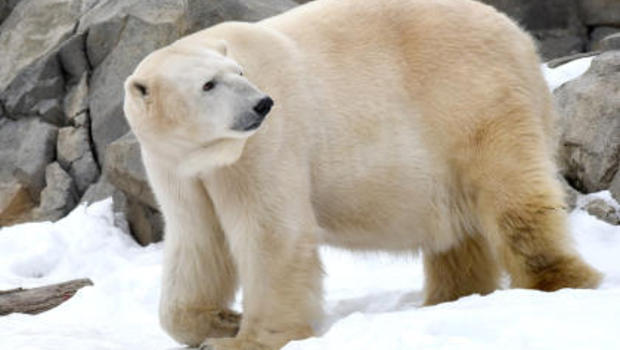Polar Bear: (93, 3, 587, 343)
